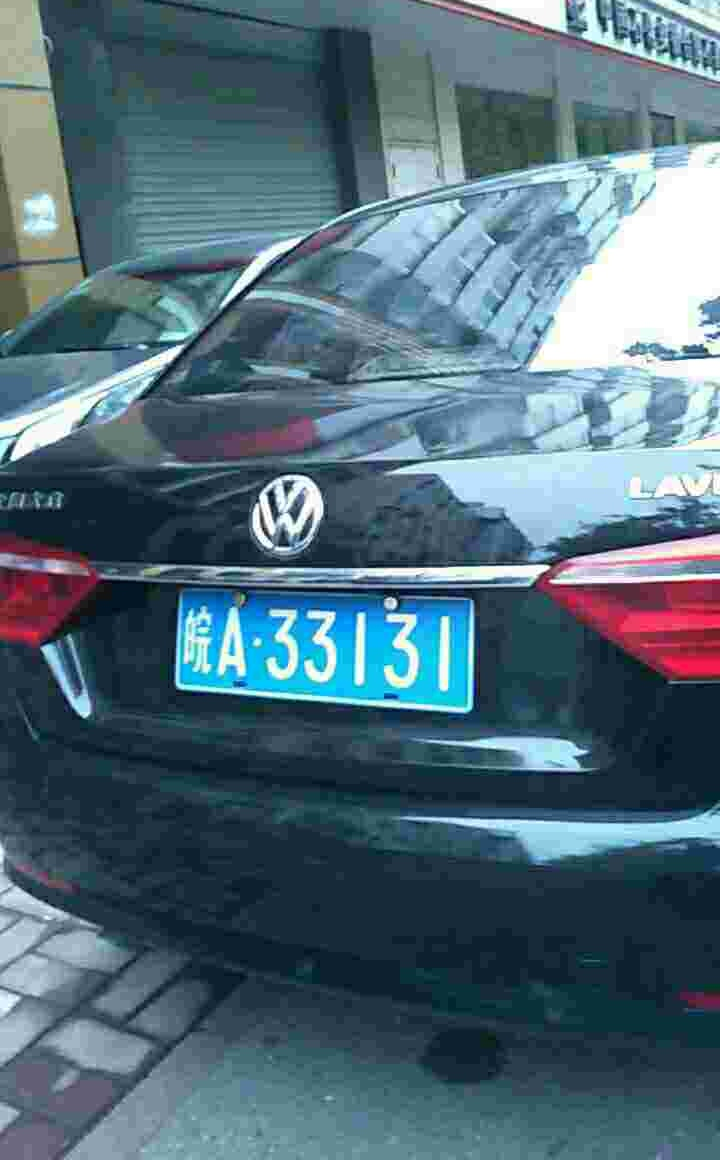car: (172, 582, 476, 712)
